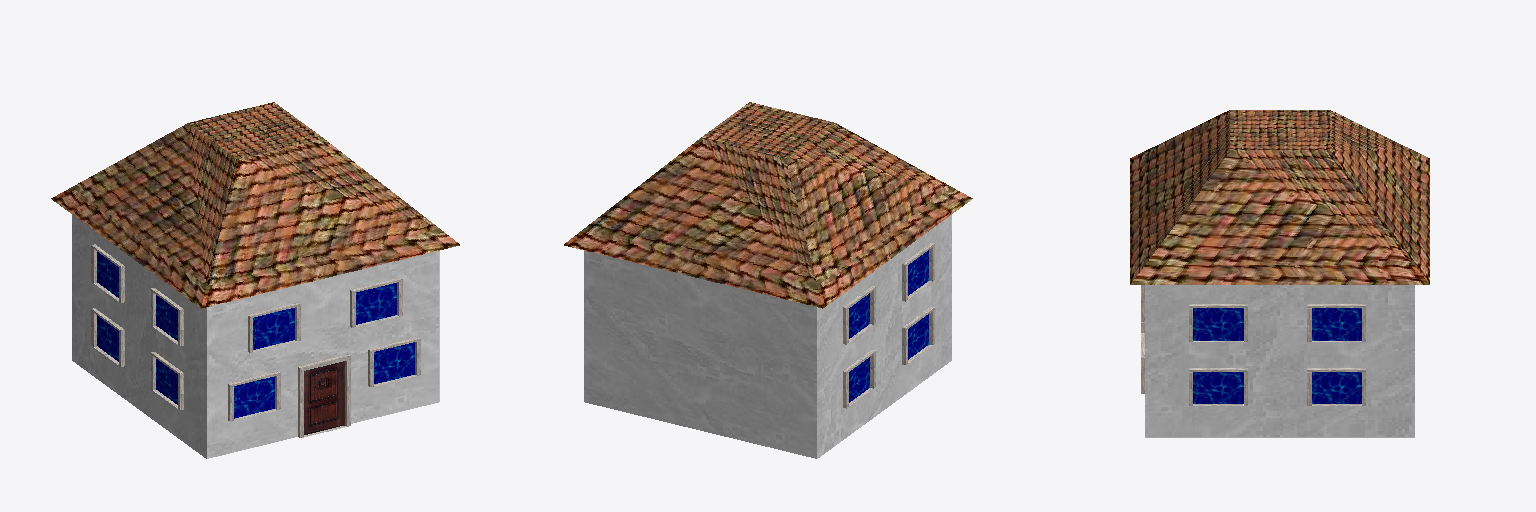
The picture shows the model from 3 angles: view 1: azimuth 30°, elevation 25°; view 2: azimuth 150°, elevation 25°; view 3: azimuth 270°, elevation 25°; orthographic projection.
Parts seen in each view (by area): view 1: Cube_Cube; view 2: Cube_Cube; view 3: Cube_Cube.
Boxes of the visible parts, x1=… form: Cube_Cube: x1=51, y1=102, x2=459, y2=458; Cube_Cube: x1=564, y1=102, x2=972, y2=458; Cube_Cube: x1=1130, y1=110, x2=1429, y2=437.
Bounding box in the file's own units: 204 × 188 × 204.
5 materials, 1 textured.